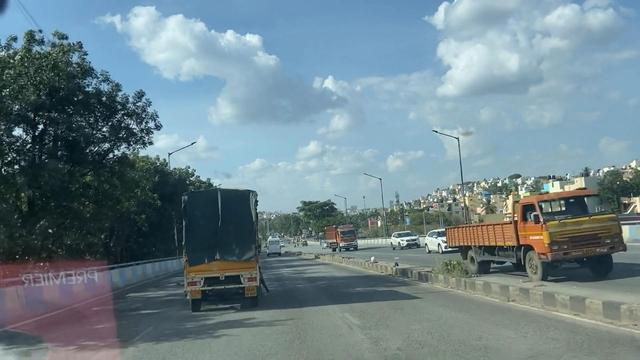HMV: (175, 191, 270, 322)
